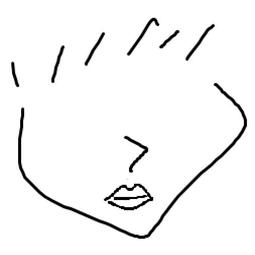cupid_mouth: (100, 179, 156, 210)
pointy_nose: (114, 129, 157, 173)
